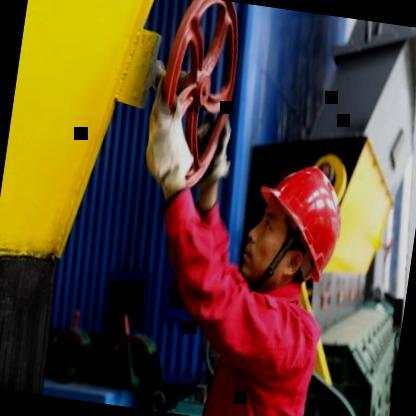helmet: (231, 142, 360, 314)
